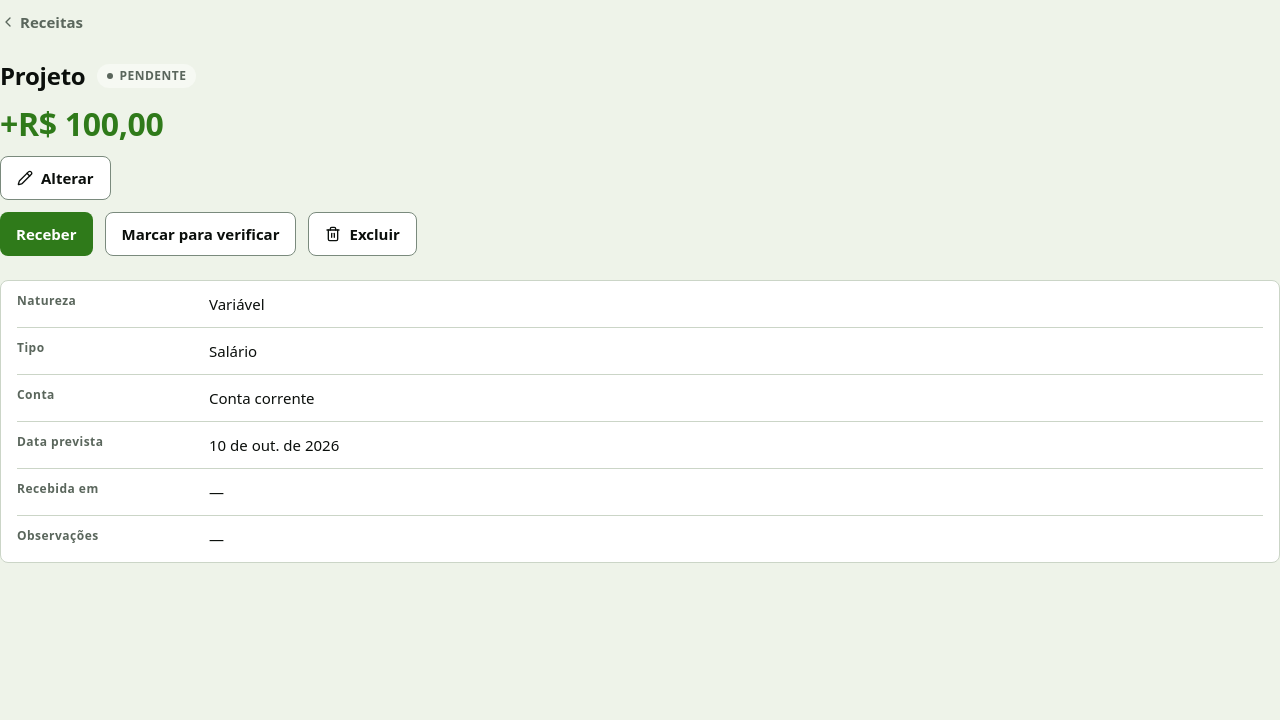
Test: EarningActions (spec 0014) › shows the cascade before deleting (0)
Expected: the heading "Projeto" is shown, [0, 60, 86, 92]
Click the button "Excluir". click: (363, 234)
box: [308, 212, 417, 256]
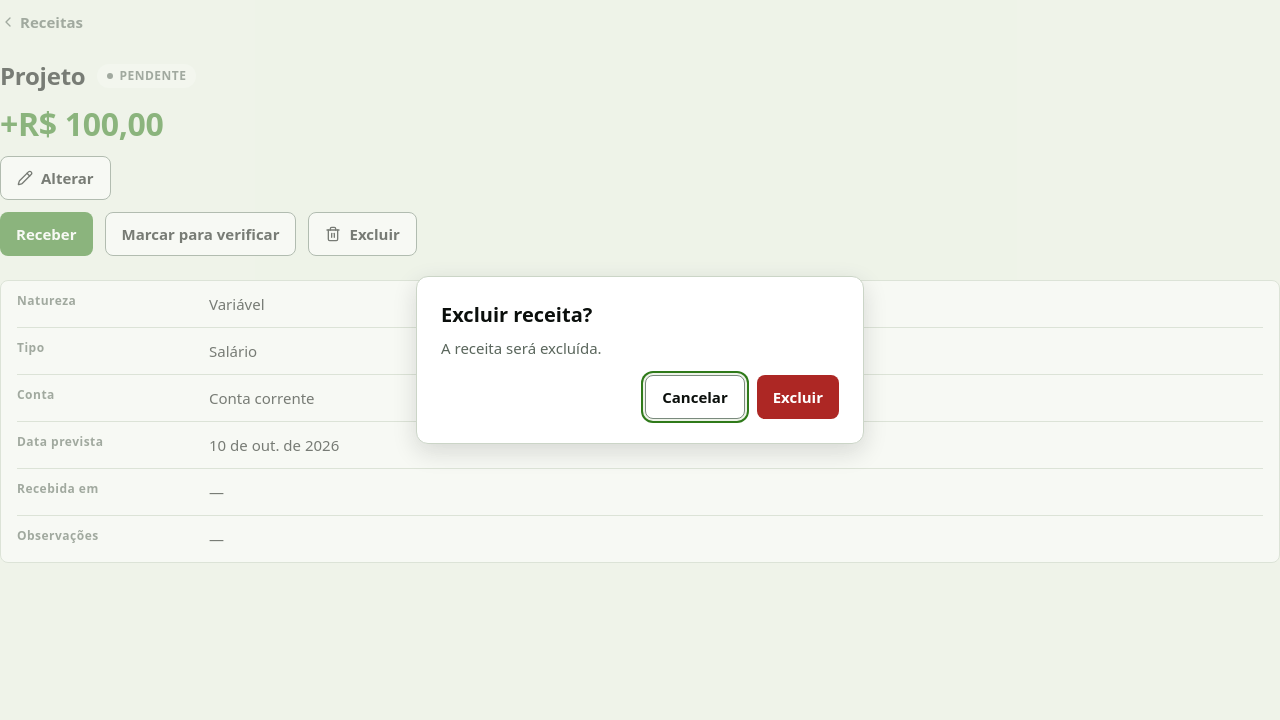
Result: the dialog "Excluir receita?" shows "A receita será excluída." at [441, 338, 602, 358]
